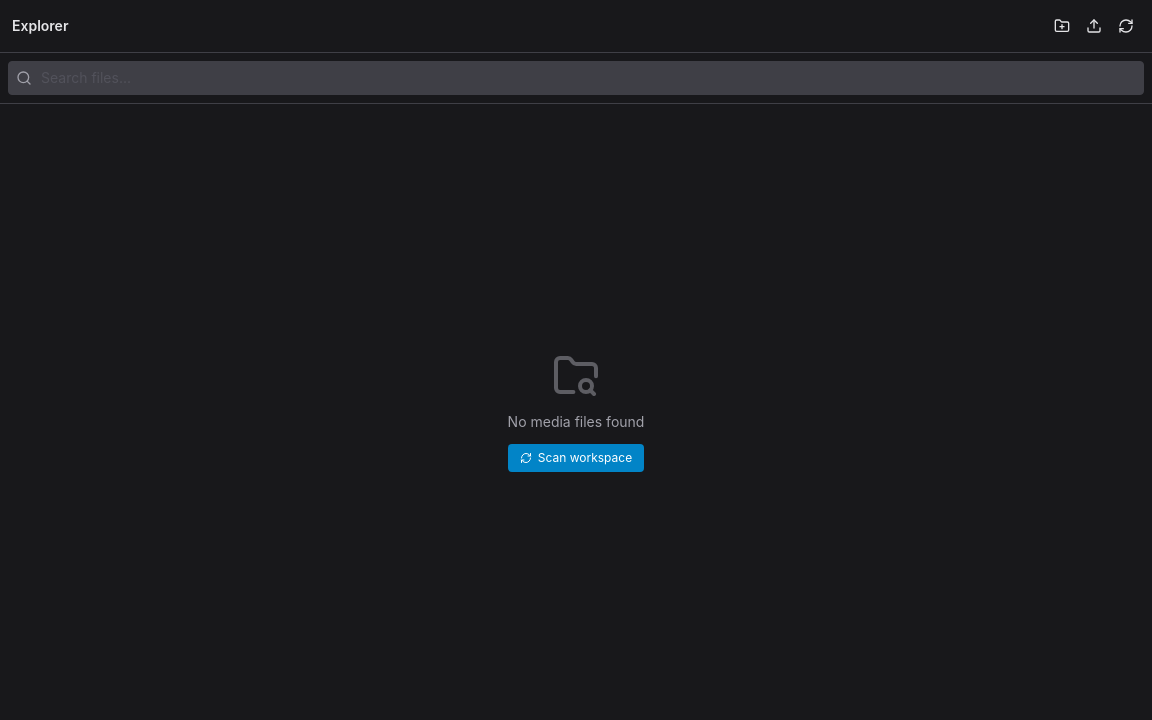
it: ProjectExplorer › should bulk import files from the header picker and show a summary
Click the button with test id "import-files-button".
click(1094, 26)  # box 1080,12 -> 1108,40
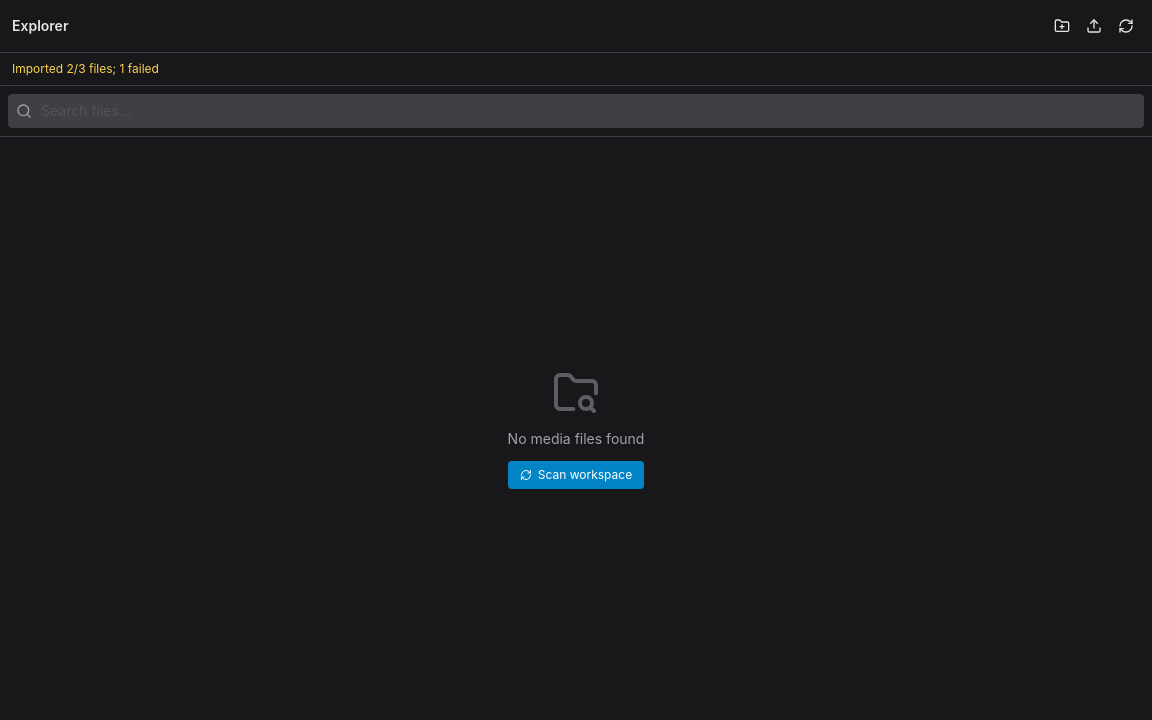
Now the message with test id "import-status" reads "Imported 2/3 files; 1 failed", box 12,61 -> 159,76
